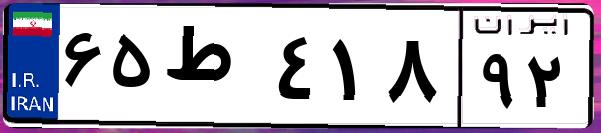1: (330, 28, 385, 110)
2: (525, 38, 570, 115)
4: (270, 28, 330, 110)
5: (110, 28, 158, 98)
6: (57, 26, 110, 100)
8: (385, 28, 445, 110)
9: (475, 38, 525, 113)
ط: (158, 20, 270, 120)
